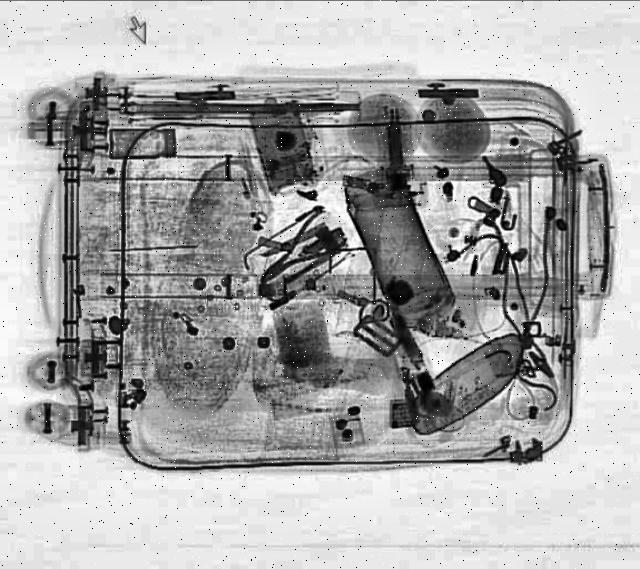Pliers: (248, 210, 356, 297)
